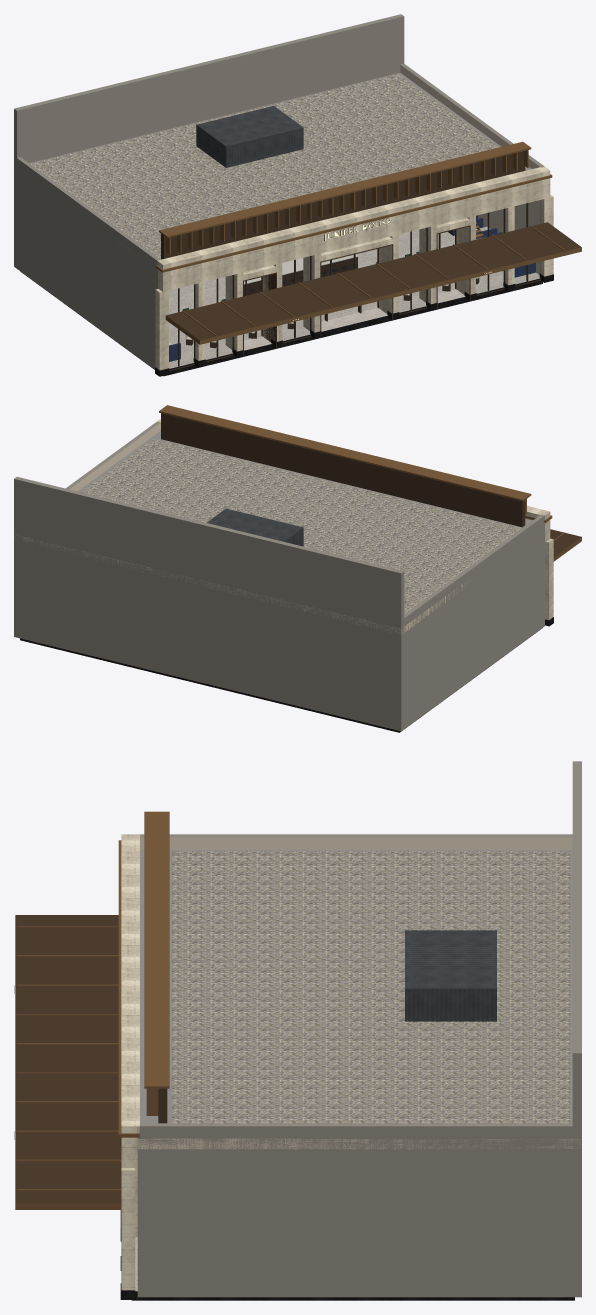
Rendered from juniper_house_LOD1.fbx.
3 views of the same model, one above another, from view 1: azimuth 30°, elevation 25°; view 2: azimuth 150°, elevation 25°; view 3: azimuth 270°, elevation 25° (orthographic). The views are drawn at different scales.
Parts seen in each view (by area): view 1: B02_LOD1_BUILDING_EXTERIOR_Stone, B02_LOD1_BUILDING_EXTERIOR_Roof, B02_LOD1_BUILDING_EXTERIOR_RearInterface, B02_LOD1_FACADE_DETAILS_Bronze, B02_LOD1_BUILDING_INTERIOR_GroundSlab, B02_LOD1_DISPLAY_OBJECTS_Bar, B02_LOD1_FURNITURE_Dining; view 2: B02_LOD1_BUILDING_EXTERIOR_Stone, B02_LOD1_BUILDING_EXTERIOR_RearInterface, B02_LOD1_BUILDING_EXTERIOR_Roof, B02_LOD1_FACADE_DETAILS_Bronze, B02_LOD1_BUILDING_INTERIOR_GroundSlab; view 3: B02_LOD1_BUILDING_EXTERIOR_Roof, B02_LOD1_BUILDING_EXTERIOR_Stone, B02_LOD1_FACADE_DETAILS_Bronze, B02_LOD1_BUILDING_EXTERIOR_RearInterface, B02_LOD1_BUILDING_INTERIOR_GroundSlab.
Part boxes in pixels (x1,y1,x2,y2): B02_LOD1_BUILDING_EXTERIOR_Stone: (14,63,553,376); B02_LOD1_BUILDING_EXTERIOR_Roof: (29,72,550,279); B02_LOD1_BUILDING_EXTERIOR_RearInterface: (14,14,404,268); B02_LOD1_FACADE_DETAILS_Bronze: (155,141,581,344); B02_LOD1_BUILDING_INTERIOR_GroundSlab: (20,229,542,376); B02_LOD1_DISPLAY_OBJECTS_Bar: (244,254,358,296); B02_LOD1_FURNITURE_Dining: (169,215,535,361); B02_LOD1_BUILDING_EXTERIOR_Stone: (14,413,553,731); B02_LOD1_BUILDING_EXTERIOR_RearInterface: (14,477,404,729); B02_LOD1_BUILDING_EXTERIOR_Roof: (14,430,550,634); B02_LOD1_FACADE_DETAILS_Bronze: (159,405,581,561); B02_LOD1_BUILDING_INTERIOR_GroundSlab: (20,628,542,732); B02_LOD1_BUILDING_EXTERIOR_Roof: (121,849,581,1149); B02_LOD1_BUILDING_EXTERIOR_Stone: (120,834,581,1299); B02_LOD1_FACADE_DETAILS_Bronze: (15,811,169,1209); B02_LOD1_BUILDING_EXTERIOR_RearInterface: (572,761,581,1297); B02_LOD1_BUILDING_INTERIOR_GroundSlab: (131,1237,574,1300).
Bounding box in the file's own units: 30.56 × 24.67 × 12.
